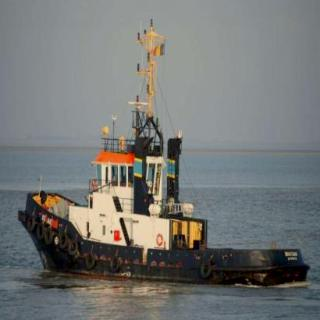Tug Boat: (8, 50, 304, 278)
